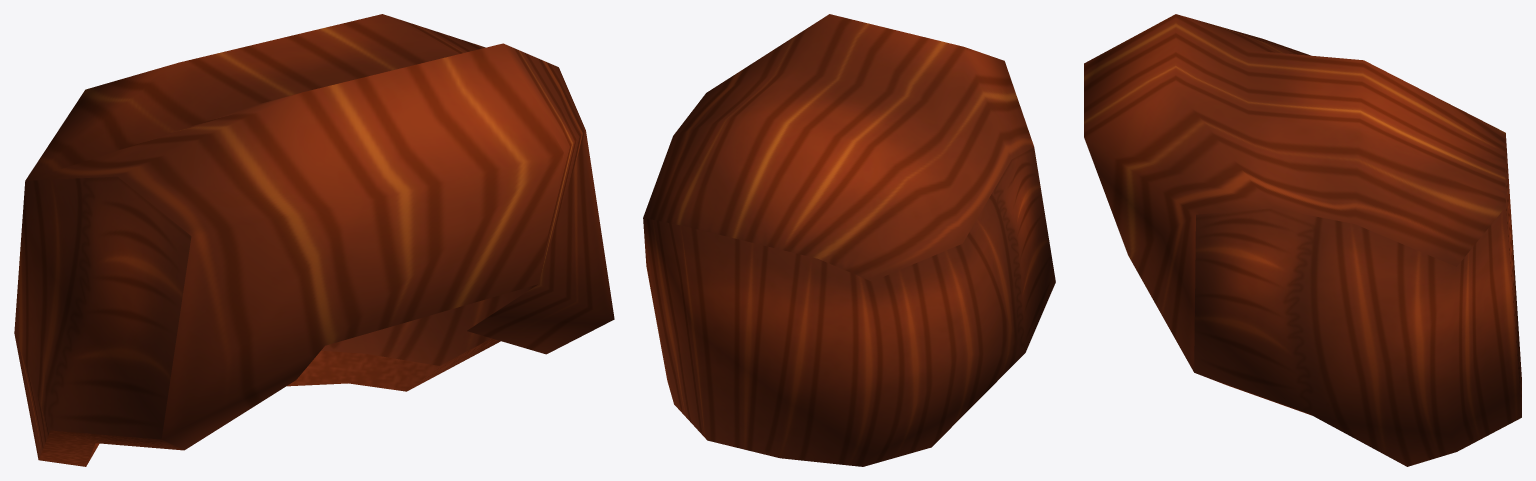
Rendered from Hair_Pompadour.FBX.
3 views of the same model, side by side, from view 1: azimuth 30°, elevation 25°; view 2: azimuth 150°, elevation 25°; view 3: azimuth 270°, elevation 25° (orthographic). The views are drawn at different scales.
Parts seen in each view (by area): view 1: Hair_Pompadour; view 2: Hair_Pompadour; view 3: Hair_Pompadour.
Boxes of the visible parts, bbox=[...] form: Hair_Pompadour: bbox=[14, 14, 614, 466]; Hair_Pompadour: bbox=[643, 14, 1055, 466]; Hair_Pompadour: bbox=[1084, 14, 1521, 466].
Bounding box in the file's own units: 270 × 231 × 259.
1 material, 1 textured.
